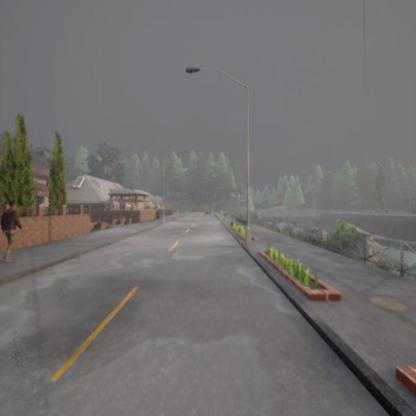person: (1, 201, 24, 263)
